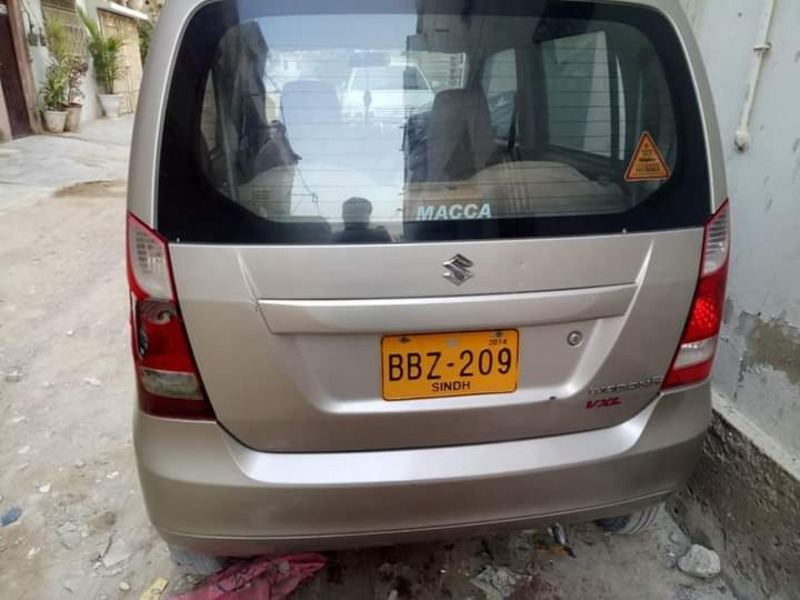License Plate: (378, 327, 521, 402)
